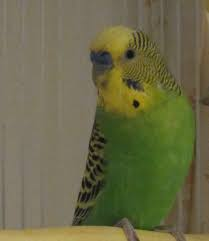budgie: (82, 24, 194, 239)
